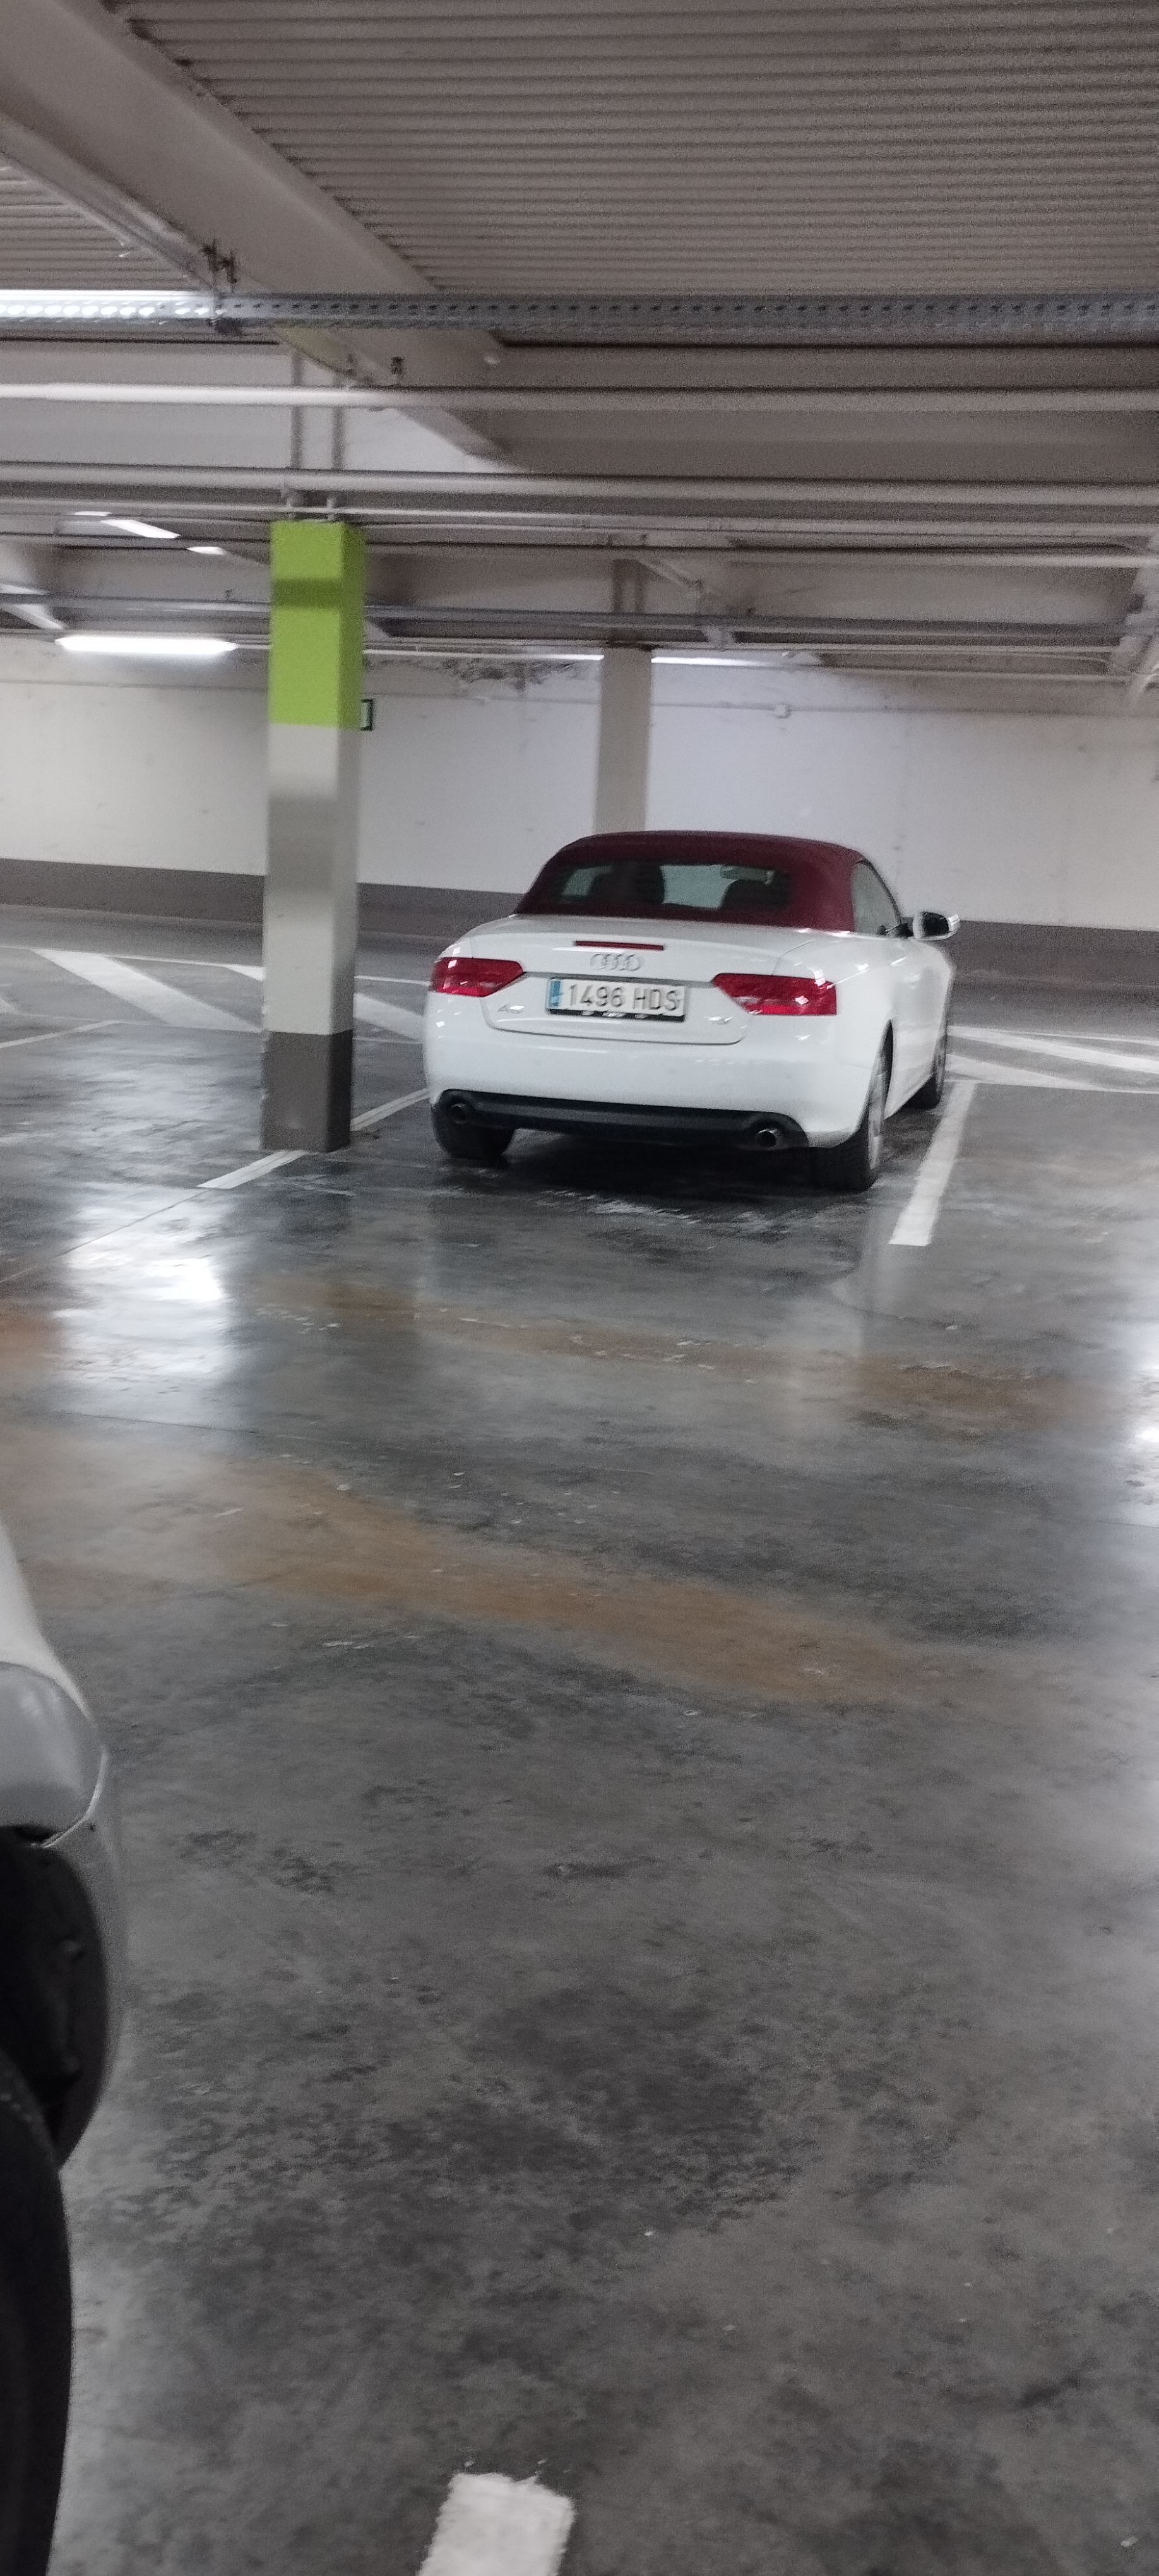Car: (426, 836, 944, 1188)
Plate: (548, 971, 683, 1022)
